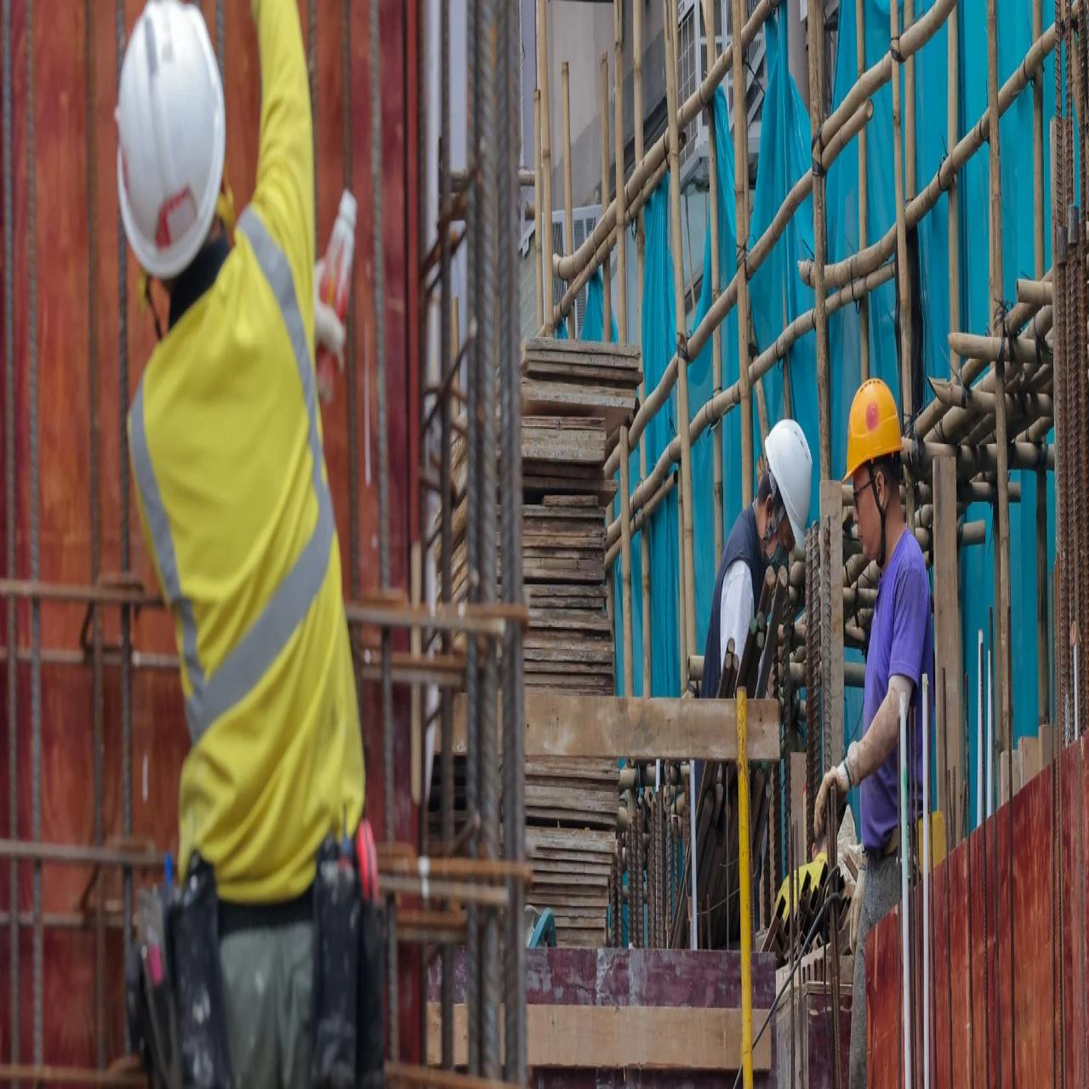NO_Safety_Vest: (104, 200, 365, 890), (851, 527, 929, 866), (700, 486, 767, 744)
Person: (94, 0, 403, 1087), (818, 348, 940, 1089), (684, 381, 814, 921)
